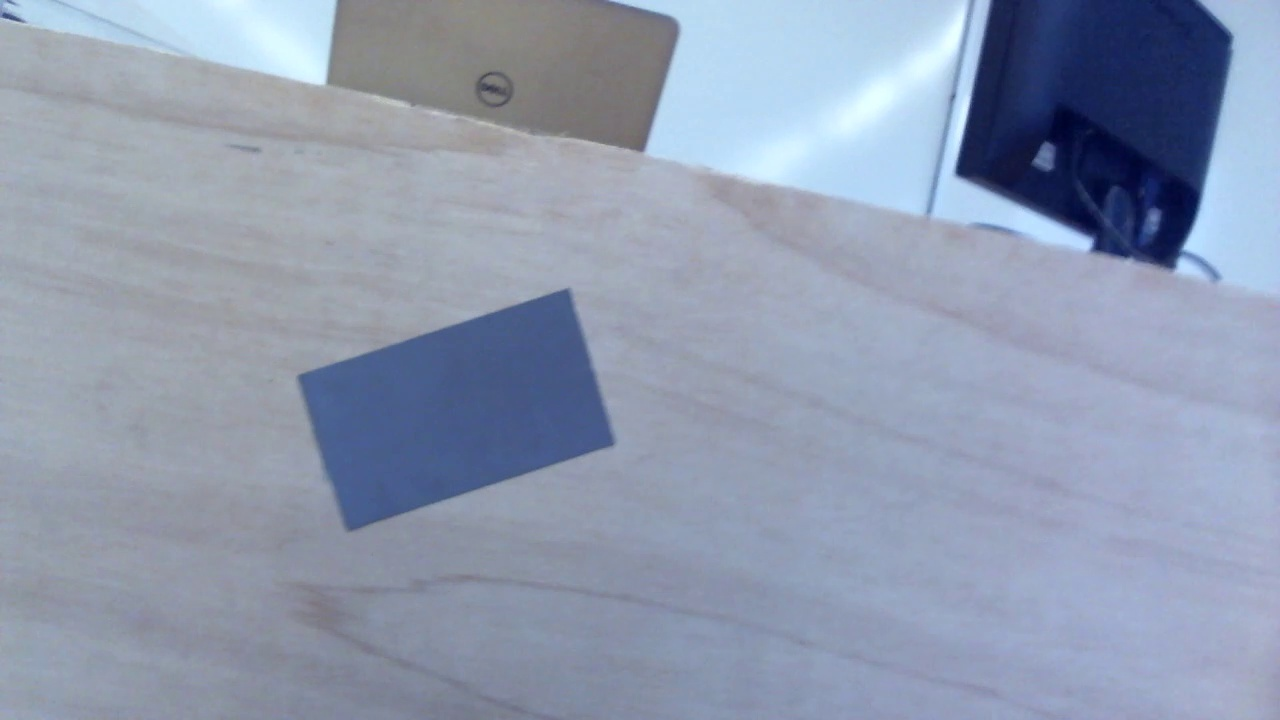Tape: (296, 290, 617, 532)
